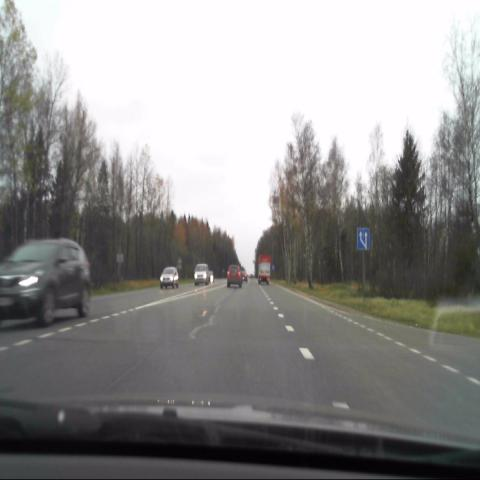5_15_3: (356, 227, 370, 250)
